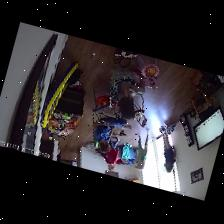person: (92, 116, 130, 151), (117, 75, 144, 119), (160, 126, 175, 171), (103, 136, 118, 169), (135, 131, 147, 168)
